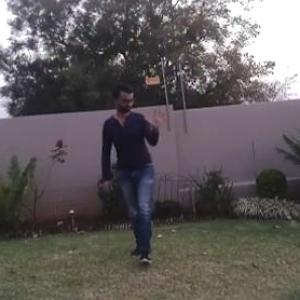follow_hand: (144, 103, 170, 132)
